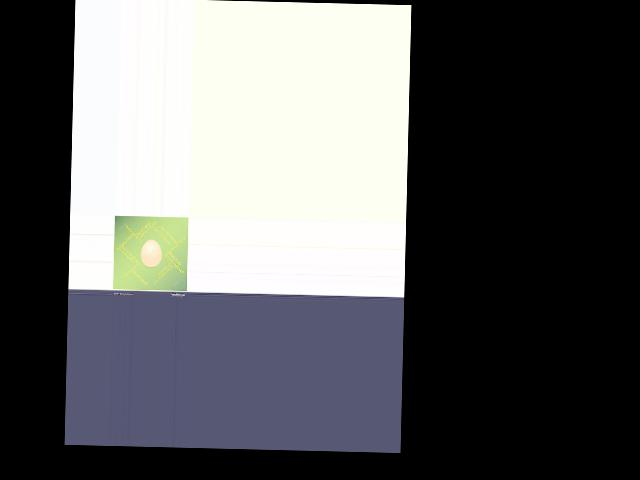egg: (140, 239, 161, 266)
